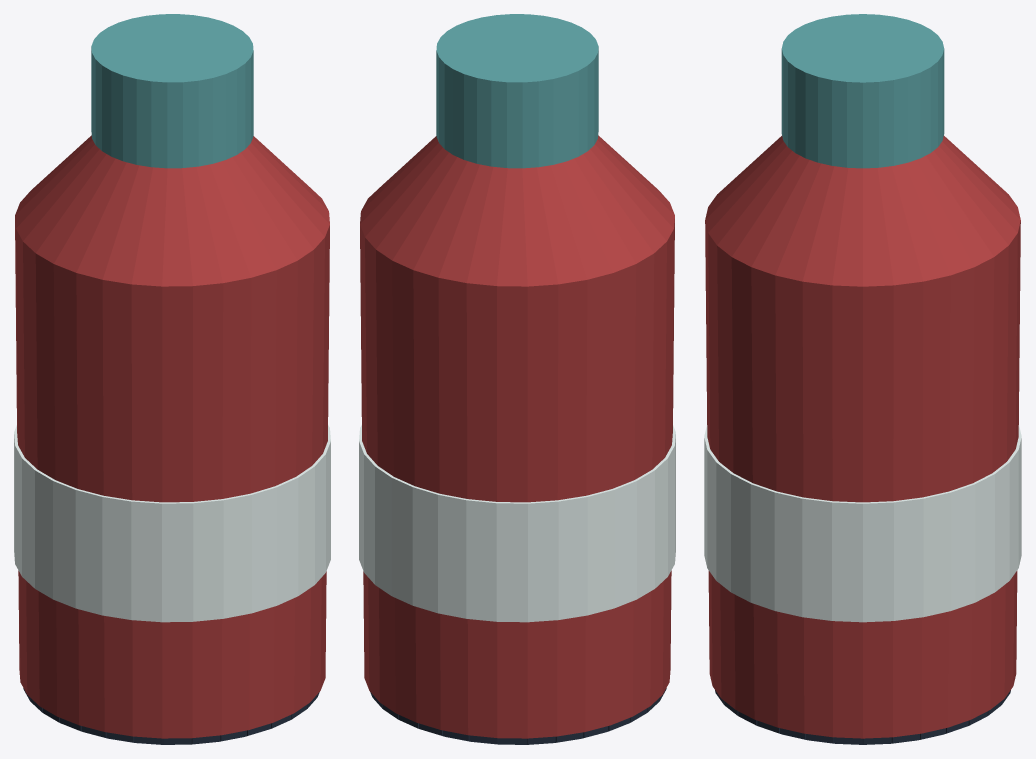
File: bottle.glb
3 views of the same model, side by side, from view 1: azimuth 30°, elevation 25°; view 2: azimuth 150°, elevation 25°; view 3: azimuth 270°, elevation 25° (orthographic).
Visible parts, largest first — view 1: bottle body, grip band, shoulder, bottle cap; view 2: bottle body, grip band, shoulder, bottle cap; view 3: bottle body, grip band, shoulder, bottle cap.
Boxes of the visible parts, bbox=[...] form: bottle body: bbox=[15, 219, 329, 738]; grip band: bbox=[14, 425, 330, 622]; shoulder: bbox=[15, 135, 329, 286]; bottle cap: bbox=[91, 14, 253, 168]; bottle body: bbox=[360, 219, 674, 738]; grip band: bbox=[359, 425, 675, 622]; shoulder: bbox=[360, 135, 674, 286]; bottle cap: bbox=[436, 14, 598, 168]; bottle body: bbox=[705, 220, 1020, 738]; grip band: bbox=[704, 425, 1021, 622]; shoulder: bbox=[705, 136, 1020, 286]; bottle cap: bbox=[781, 14, 944, 168].
Size of the model in its own units: 0.704 by 1.55 by 0.704.
